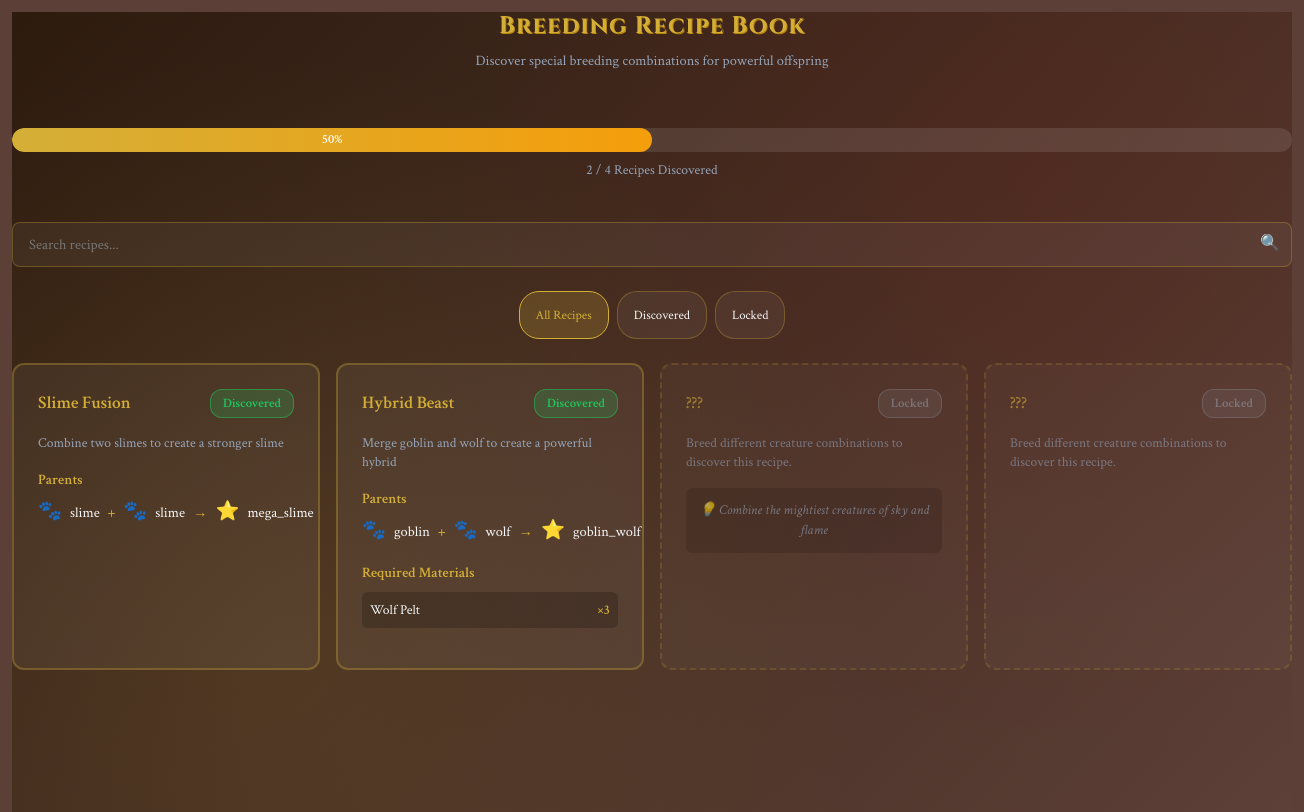
Test: BreedingRecipeBook › Search Functionality › should filter recipes by name
Check: the text "Slime Fusion" is shown, box x1=38 y1=390 x2=131 y2=416
In the field with placeholder "Search recipes...": point(652, 244) x1=12 y1=222 x2=1292 y2=267, type "slime"
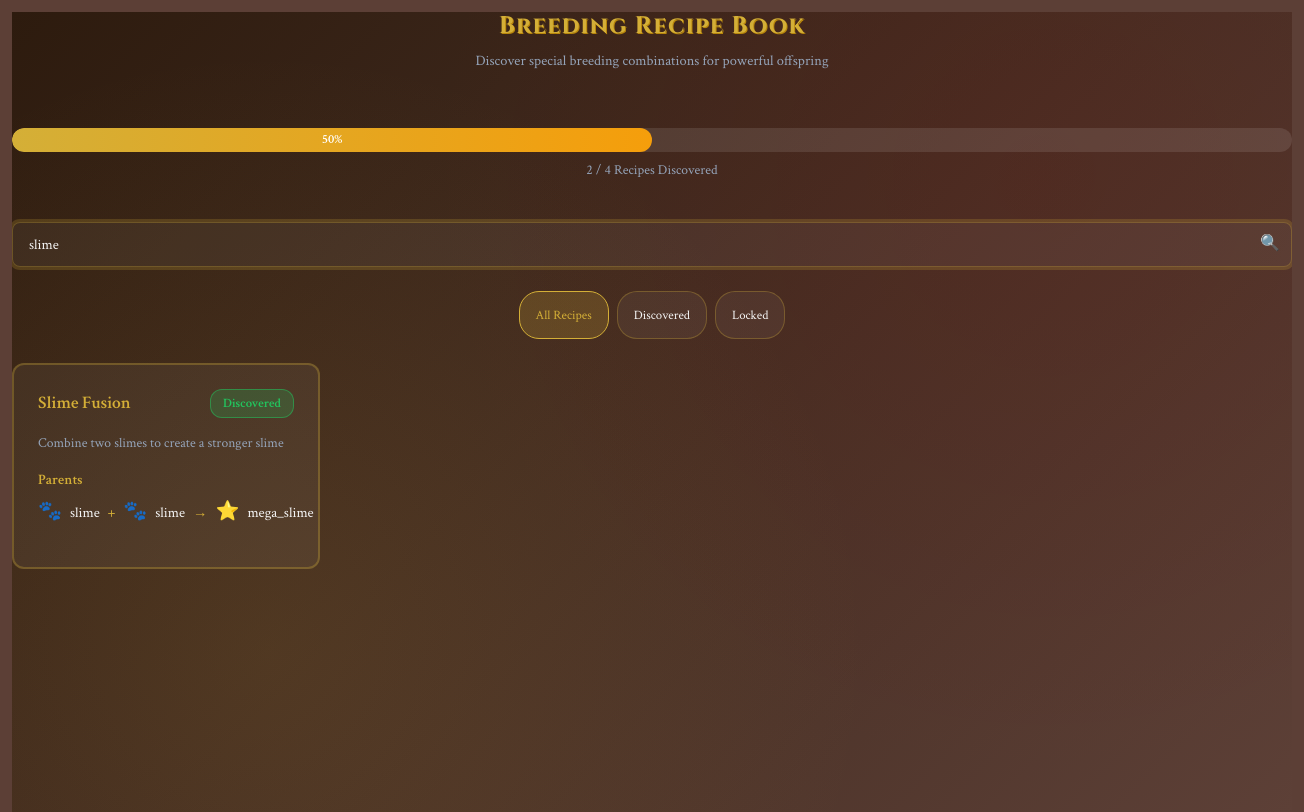
Check: the text "Slime Fusion" is shown, box x1=38 y1=390 x2=131 y2=416
Check: the text "Hybrid Beast" is gone
